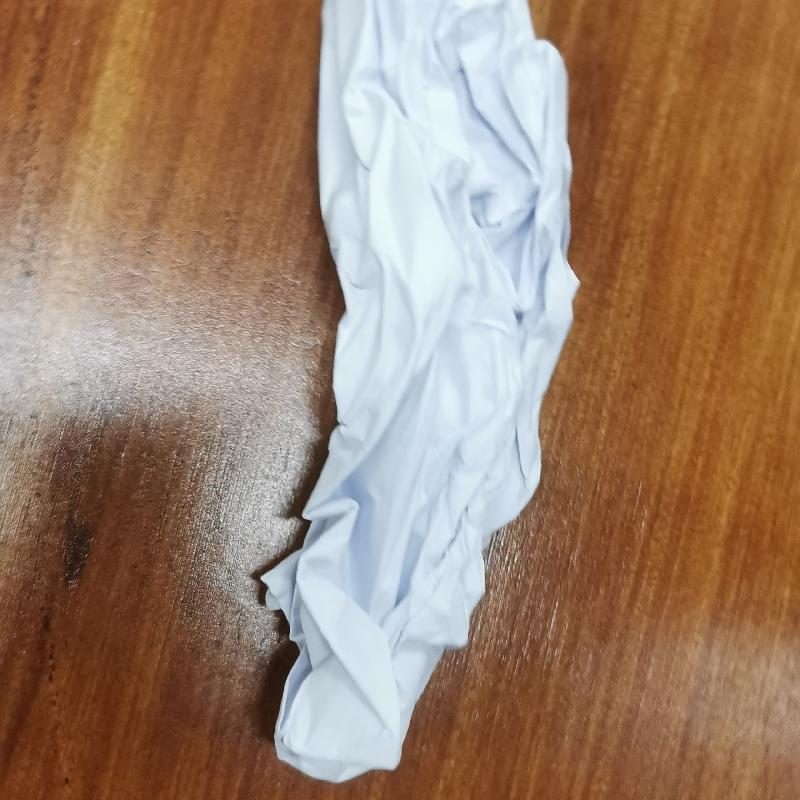spitball: (252, 4, 586, 788)
